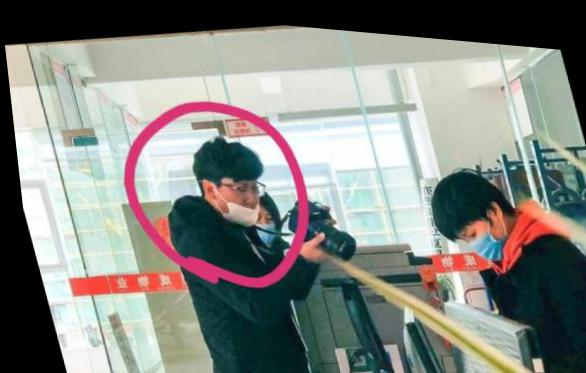OK: (448, 202, 513, 260), (242, 201, 277, 244)
WRONG: (212, 167, 265, 226)
